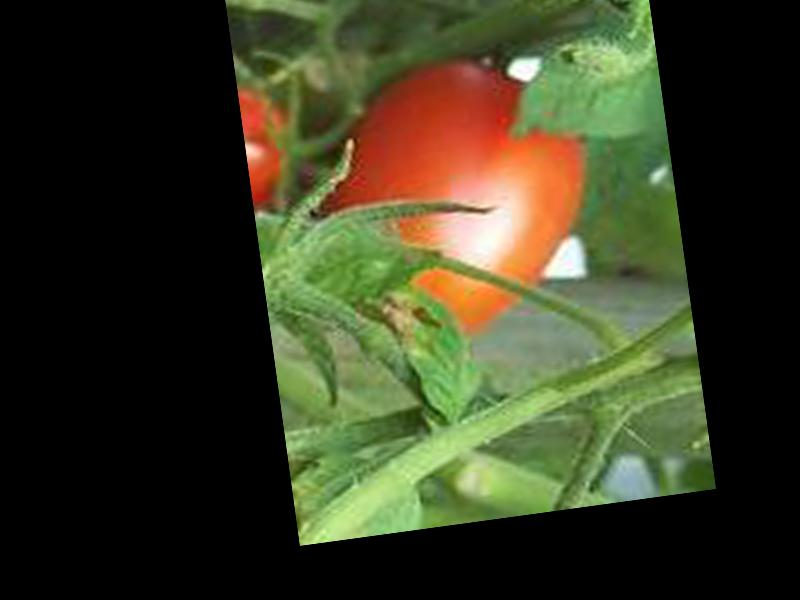Tomato: (316, 46, 607, 344)
